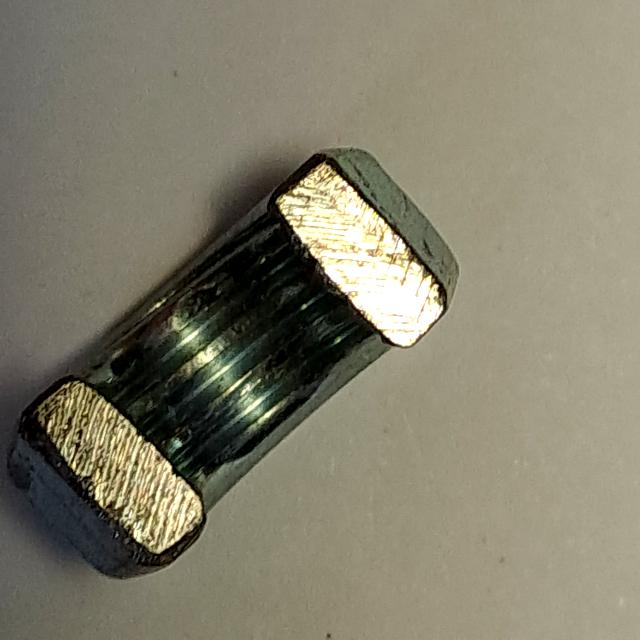Side-Fracture: (1, 128, 472, 598)
